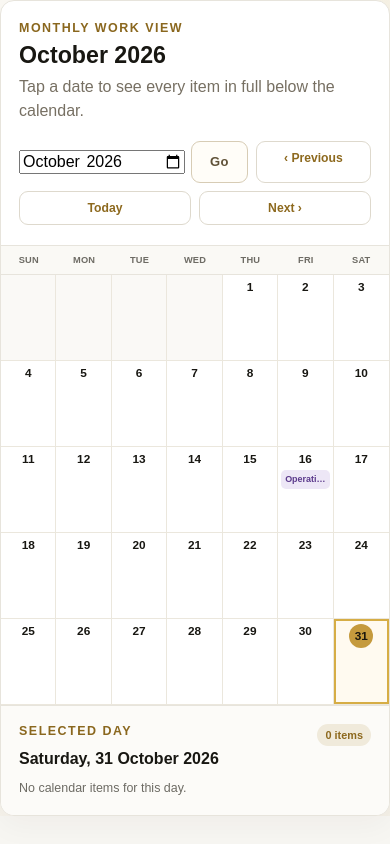
Scenario: shows one grouped event in the month and all recipient names on selecting the day
Expected: the number of buttons with class "calendar-item" is 1, [281, 470, 330, 489]
What coordinates should you click on to do the following:
click the button named "Show Friday, 16 October 2026"
I would click on:
 (305, 459)
Its box is [299, 452, 312, 466].
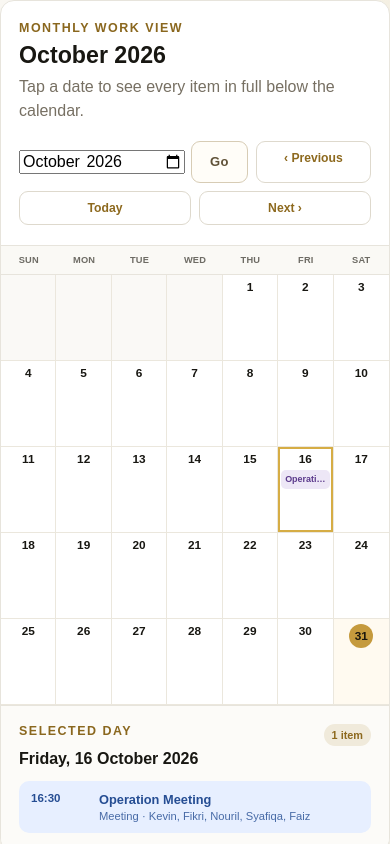
Expected: the text "Meeting · Kevin, Fikri, Nouril, Syafiqa, Faiz" is shown, [99, 810, 310, 822]
Expected: the text "1 item" is shown, [324, 724, 371, 746]
